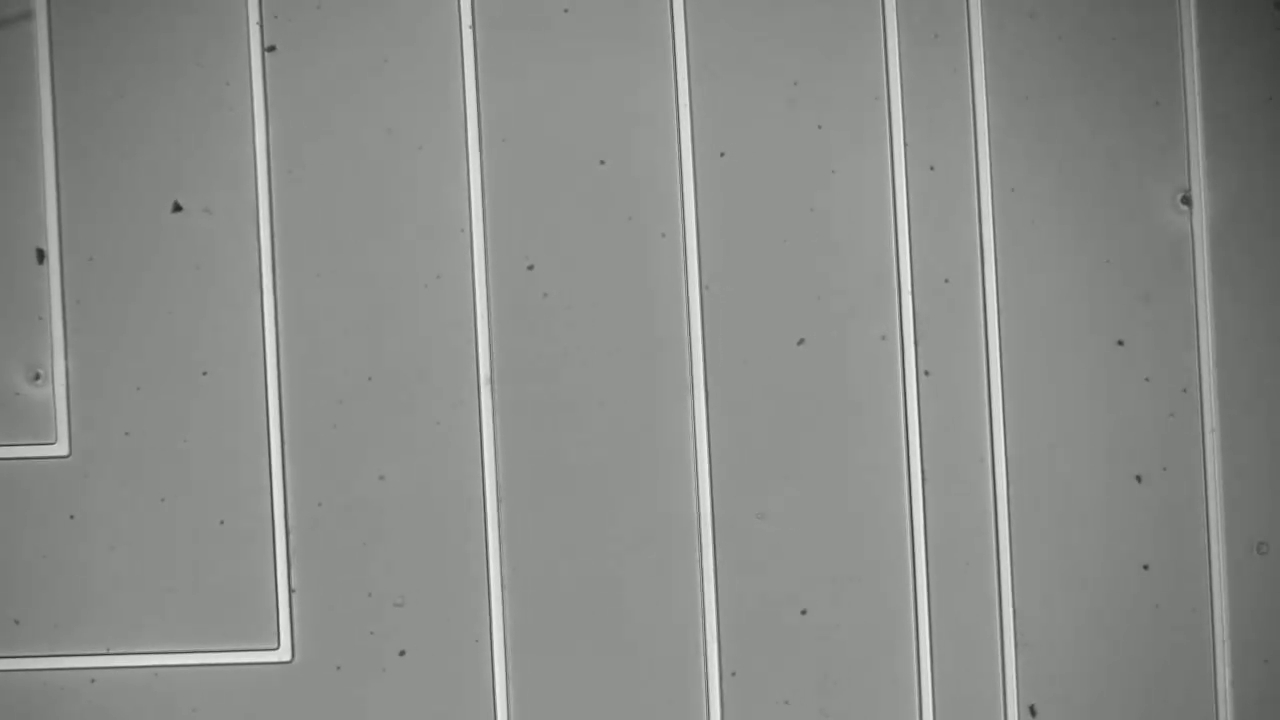stains_enbedded: (1173, 180, 1213, 219)
